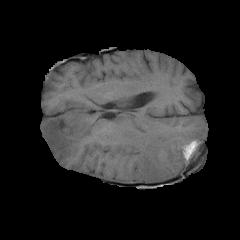glioma: (42, 112, 205, 181)
